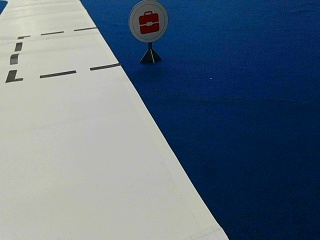company: (128, 1, 168, 41)
